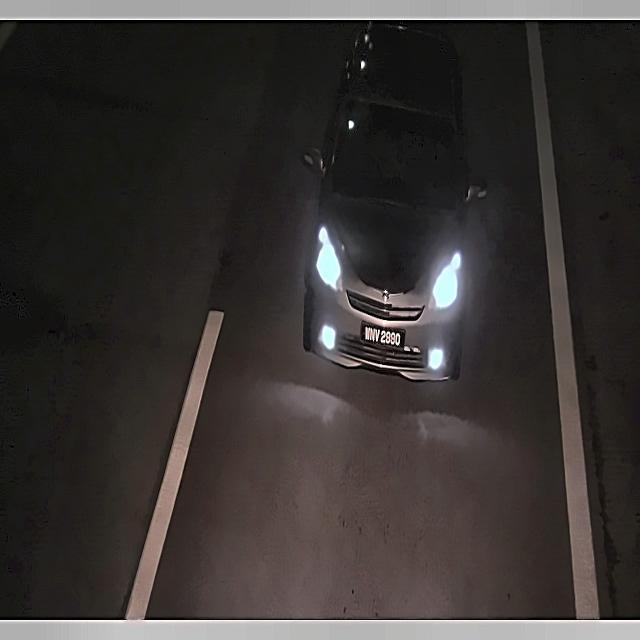car: (360, 322, 405, 350)
